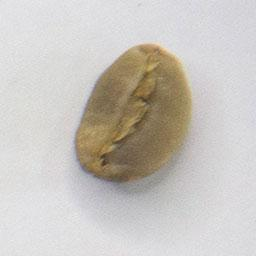longberry: (72, 41, 196, 185)
